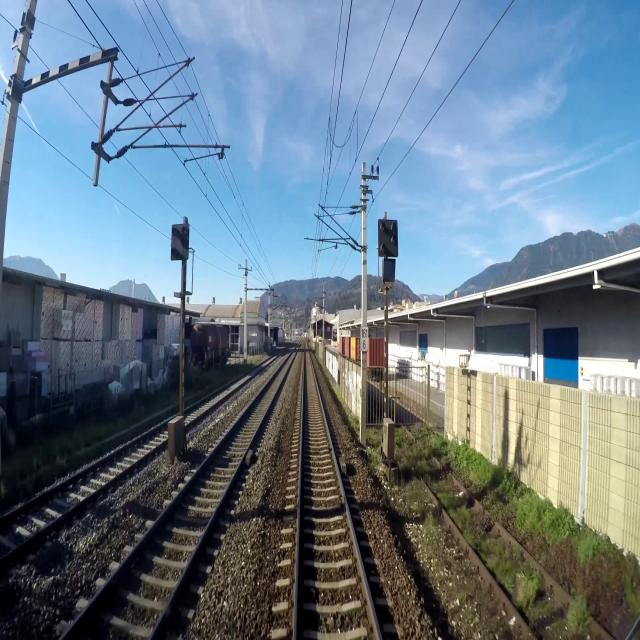rail-track: (65, 353, 293, 639), (298, 347, 377, 639), (0, 424, 168, 554), (183, 377, 244, 421)
